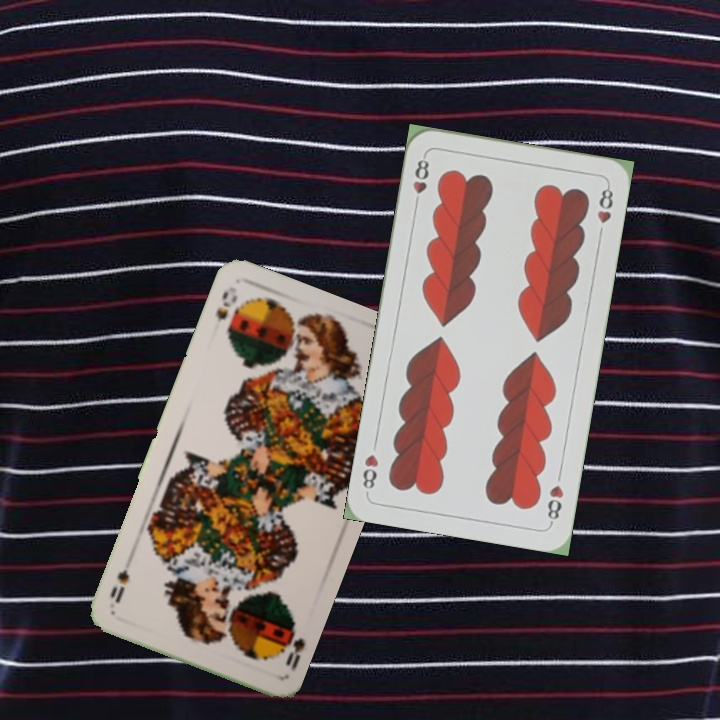H8: (409, 151, 432, 210), (543, 481, 566, 527)
SO: (276, 616, 308, 674), (212, 287, 240, 325)
